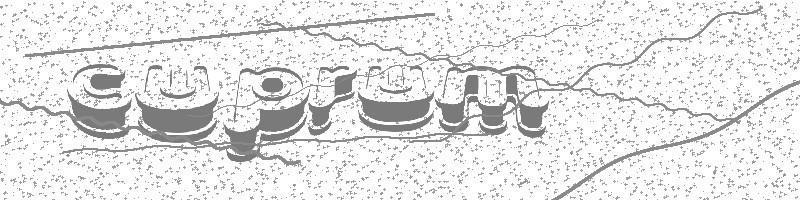c: (66, 63, 132, 141)
m: (435, 65, 549, 139)
p: (223, 66, 309, 163)
r: (308, 65, 357, 137)
u: (134, 62, 219, 143), (357, 64, 435, 134)
